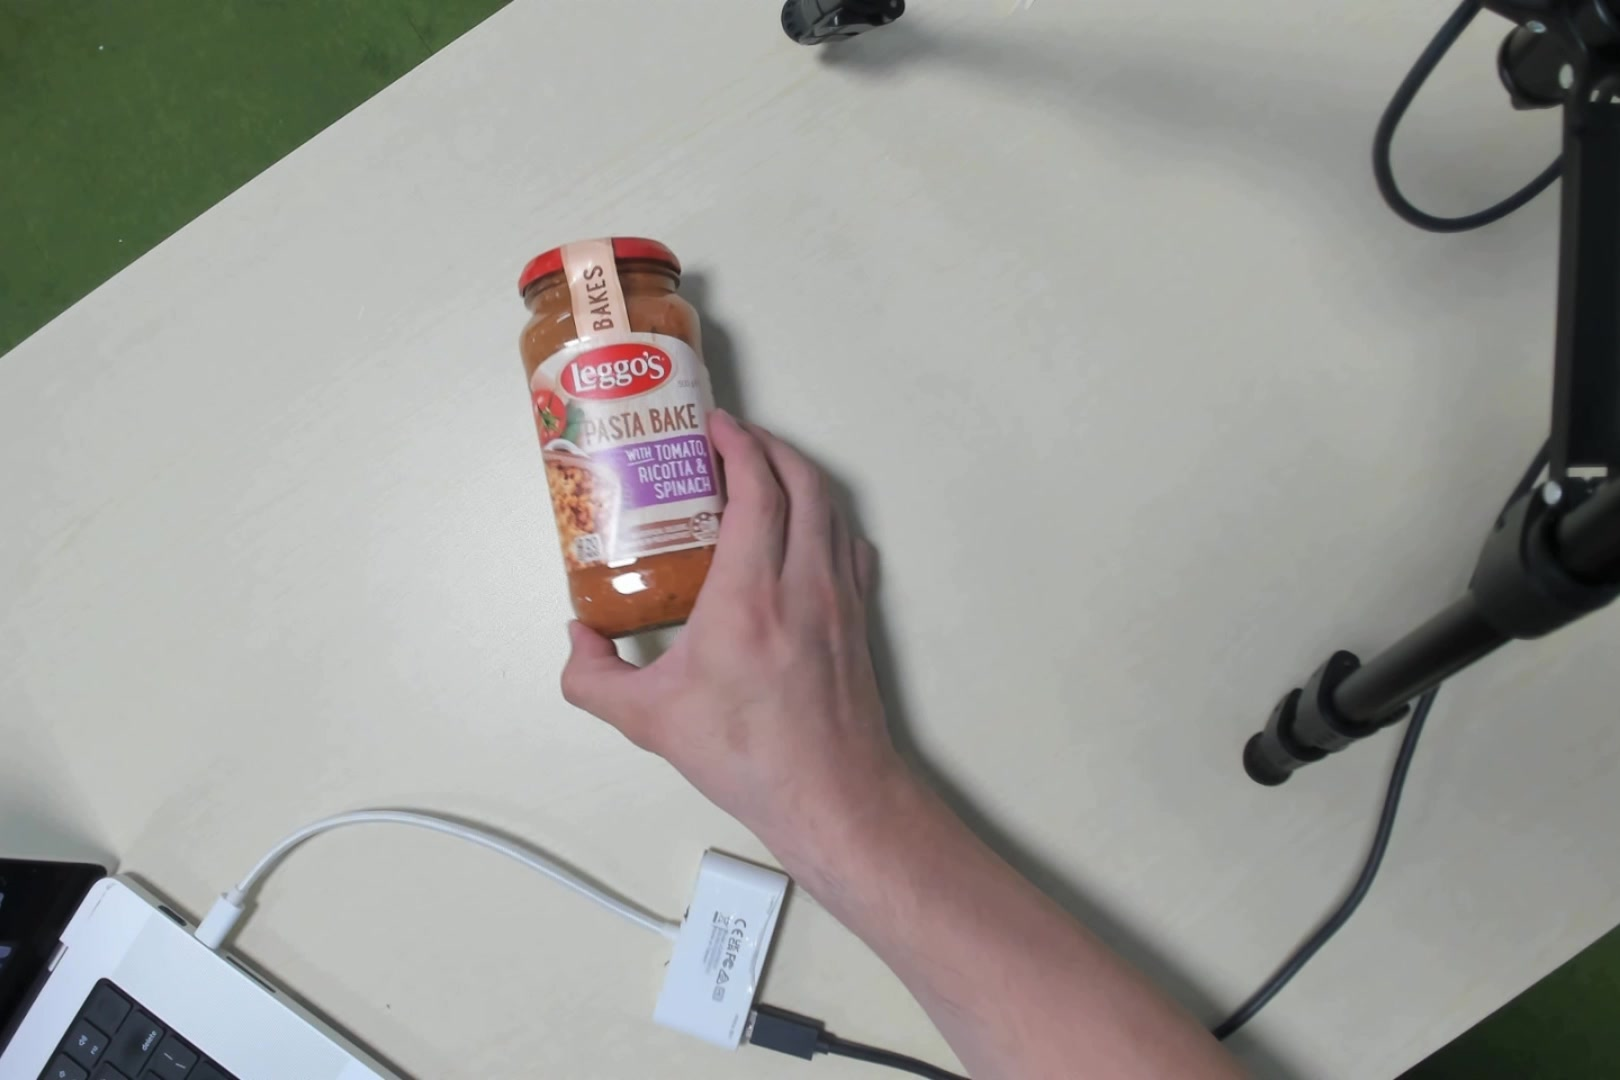Pasta_500-599g_Halal_NonHealthy: (526, 240, 724, 620)
